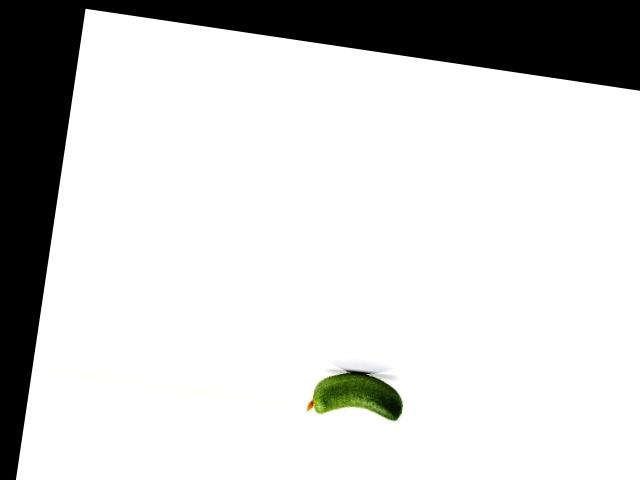cucumber: (306, 365, 407, 425)
